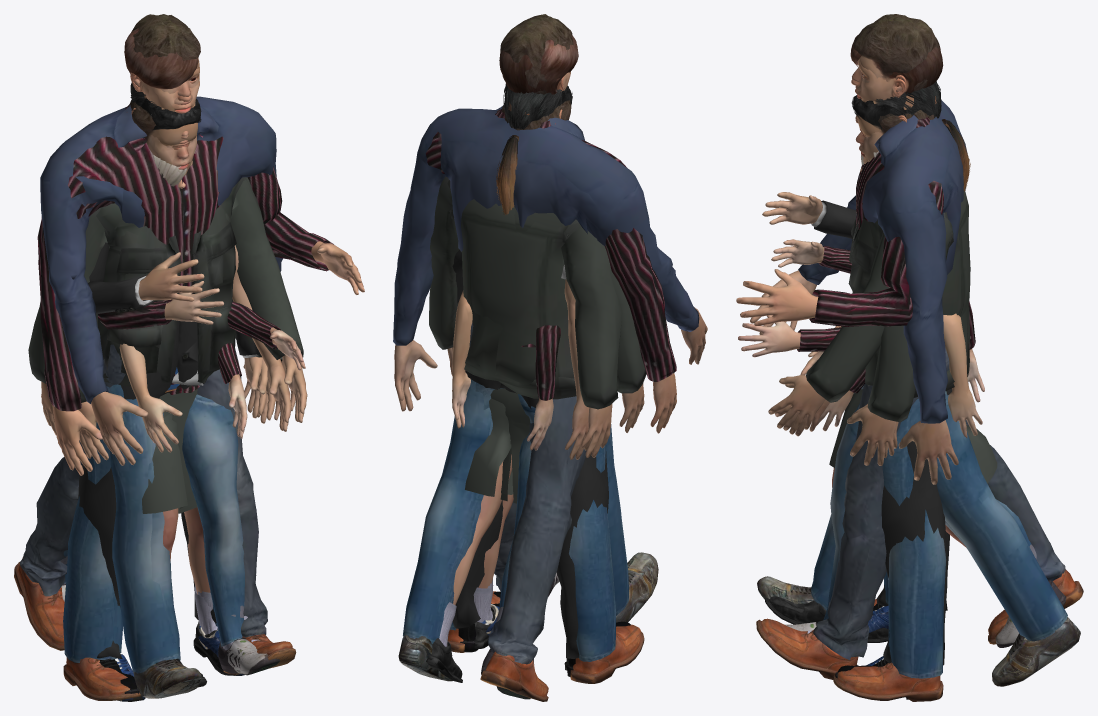
Rendered from people.glb.
3 renders of one model, left to right at view 1: azimuth 30°, elevation 25°; view 2: azimuth 150°, elevation 25°; view 3: azimuth 270°, elevation 25°, orthographic. The views are drawn at different scales.
Parts seen in each view (by area): view 1: m_walk_a_Human.male_casualsuit01, m_stand_b_Human.male_casualsuit03, m_walk_b_Human.male_casualsuit05, f_walk_b_Human.female_casualsuit01, m_stand_a_Human.male_elegantsuit01, m_stand_c_Human.male_casualsuit05, m_stand_b_Human, m_stand_a_Human, f_walk_a_Human.female_elegantsuit01, m_walk_a_Human.shoes01, m_walk_c_Human, m_walk_a_Human (+17 smaller); view 2: m_walk_a_Human.male_casualsuit01, m_walk_b_Human.male_casualsuit05, m_stand_b_Human.male_casualsuit03, m_stand_c_Human.male_casualsuit05, m_stand_a_Human.male_elegantsuit01, f_walk_a_Human.female_elegantsuit01, m_walk_a_Human.short02, m_stand_b_Human.short03, m_walk_b_Human.shoes02, m_stand_b_Human.shoes01, f_walk_a_Human, m_walk_a_Human (+17 smaller); view 3: m_walk_a_Human.male_casualsuit01, m_walk_b_Human.male_casualsuit05, m_stand_b_Human.male_casualsuit03, m_stand_c_Human.male_casualsuit05, m_stand_a_Human.male_elegantsuit01, m_walk_a_Human.shoes01, m_stand_b_Human, m_walk_a_Human.short02, m_walk_b_Human.shoes02, m_walk_a_Human, m_stand_b_Human.shoes01, f_walk_b_Human (+19 smaller).
Boxes of the visible parts, x1=… form: m_walk_a_Human.male_casualsuit01: x1=19, y1=96, x2=282, y2=638; m_stand_b_Human.male_casualsuit03: x1=37, y1=104, x2=333, y2=662; m_walk_b_Human.male_casualsuit05: x1=28, y1=177, x2=303, y2=672; f_walk_b_Human.female_casualsuit01: x1=63, y1=367, x2=244, y2=646; m_stand_a_Human.male_elegantsuit01: x1=78, y1=242, x2=259, y2=658; m_stand_c_Human.male_casualsuit05: x1=79, y1=177, x2=261, y2=653; m_stand_b_Human: x1=53, y1=67, x2=364, y2=475; m_stand_a_Human: x1=138, y1=122, x2=266, y2=418; f_walk_a_Human.female_elegantsuit01: x1=142, y1=343, x2=241, y2=513; m_walk_a_Human.shoes01: x1=14, y1=557, x2=296, y2=674; m_walk_c_Human: x1=146, y1=135, x2=291, y2=431; m_walk_a_Human: x1=91, y1=58, x2=244, y2=465; m_walk_a_Human.male_casualsuit01: x1=393, y1=105, x2=699, y2=664; m_walk_b_Human.male_casualsuit05: x1=403, y1=180, x2=628, y2=638; m_stand_b_Human.male_casualsuit03: x1=425, y1=109, x2=676, y2=661; m_stand_c_Human.male_casualsuit05: x1=429, y1=176, x2=646, y2=558; m_stand_a_Human.male_elegantsuit01: x1=450, y1=189, x2=608, y2=658; f_walk_a_Human.female_elegantsuit01: x1=465, y1=325, x2=560, y2=496; m_walk_a_Human.short02: x1=500, y1=14, x2=573, y2=94; m_stand_b_Human.short03: x1=499, y1=35, x2=578, y2=94; m_walk_b_Human.shoes02: x1=398, y1=552, x2=658, y2=665; m_stand_b_Human.shoes01: x1=447, y1=591, x2=644, y2=683; f_walk_a_Human: x1=453, y1=398, x2=553, y2=604; m_walk_a_Human: x1=394, y1=78, x2=707, y2=411; m_walk_a_Human.male_casualsuit01: x1=798, y1=100, x2=1065, y2=659; m_walk_b_Human.male_casualsuit05: x1=806, y1=190, x2=1067, y2=640; m_stand_b_Human.male_casualsuit03: x1=809, y1=117, x2=945, y2=678; m_stand_c_Human.male_casualsuit05: x1=850, y1=212, x2=969, y2=604; m_stand_a_Human.male_elegantsuit01: x1=811, y1=200, x2=952, y2=665; m_walk_a_Human.shoes01: x1=756, y1=569, x2=1083, y2=679; m_stand_b_Human: x1=736, y1=59, x2=908, y2=327; m_walk_a_Human.short02: x1=853, y1=14, x2=939, y2=90; m_walk_b_Human.shoes02: x1=757, y1=576, x2=1080, y2=686; m_walk_a_Human: x1=750, y1=55, x2=958, y2=484; m_stand_b_Human.shoes01: x1=833, y1=599, x2=943, y2=701; f_walk_b_Human: x1=800, y1=158, x2=982, y2=437.
Size of the model in its own units: 0.7755 by 1.87 by 0.9127.
31 materials, 31 textured.
